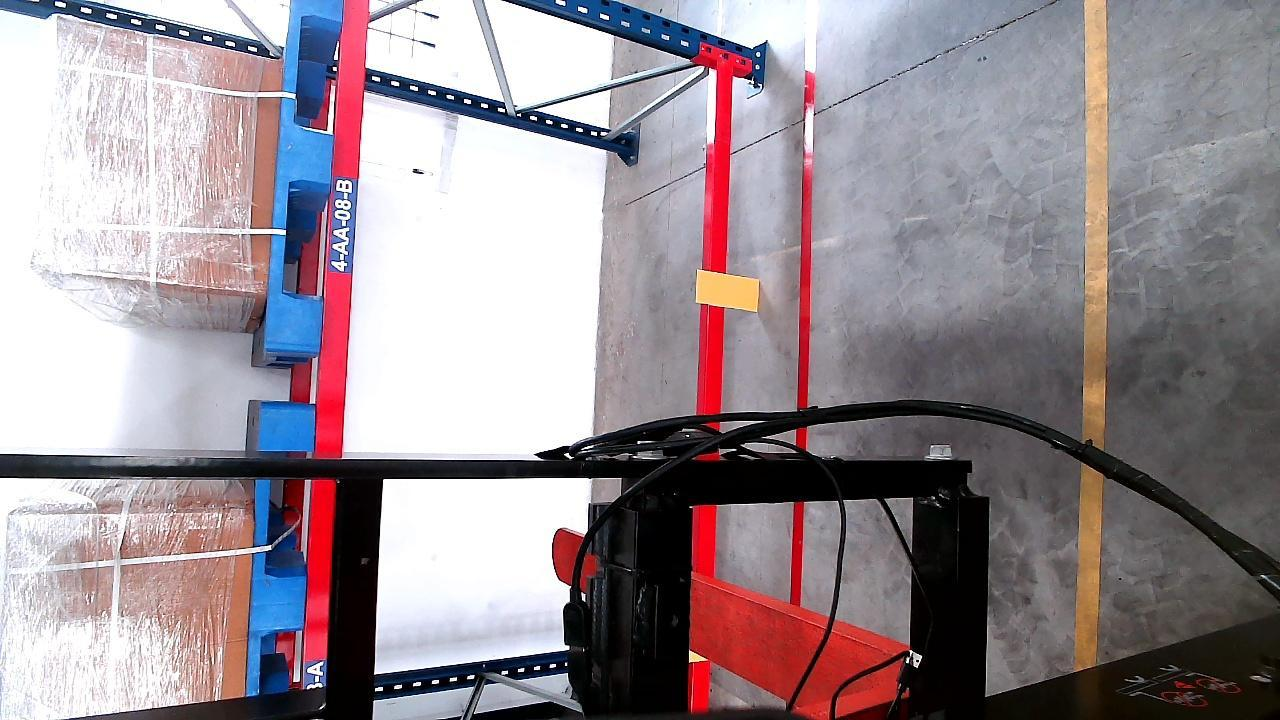red_line: (790, 3, 817, 604)
yellow_line: (1075, 0, 1104, 672)
